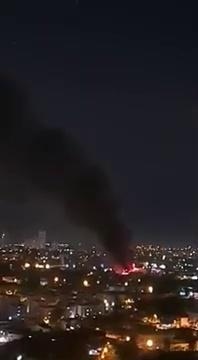smoke: (39, 155, 124, 207)
